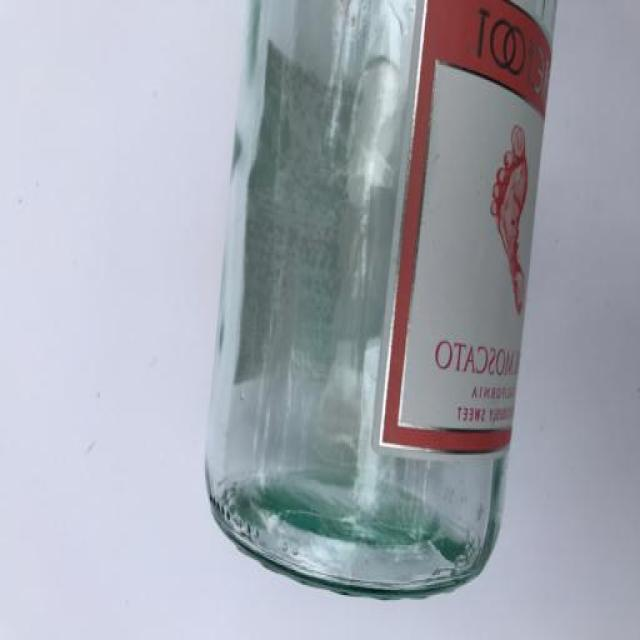glass: (204, 0, 559, 600)
